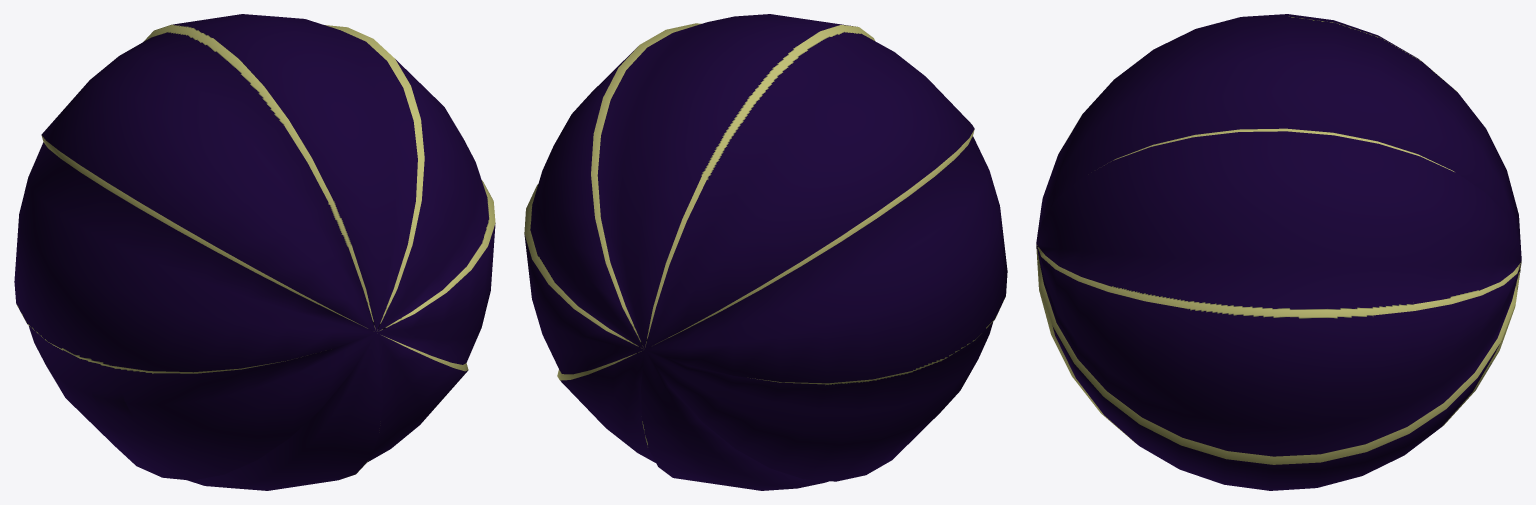
File: FattyForest.fbx
3 renders of one model, left to right at view 1: azimuth 30°, elevation 25°; view 2: azimuth 150°, elevation 25°; view 3: azimuth 270°, elevation 25°, orthographic.
Parts seen in each view (by area): view 1: Fatty; view 2: Fatty; view 3: Fatty.
Boxes of the visible parts, box(x1,y1,x2,y2) form: Fatty: box(14, 14, 495, 490); Fatty: box(524, 14, 1007, 490); Fatty: box(1036, 14, 1521, 490).
Size of the model in its own units: 202 by 202 by 203.
Materials: 1 (1 with a texture image).
